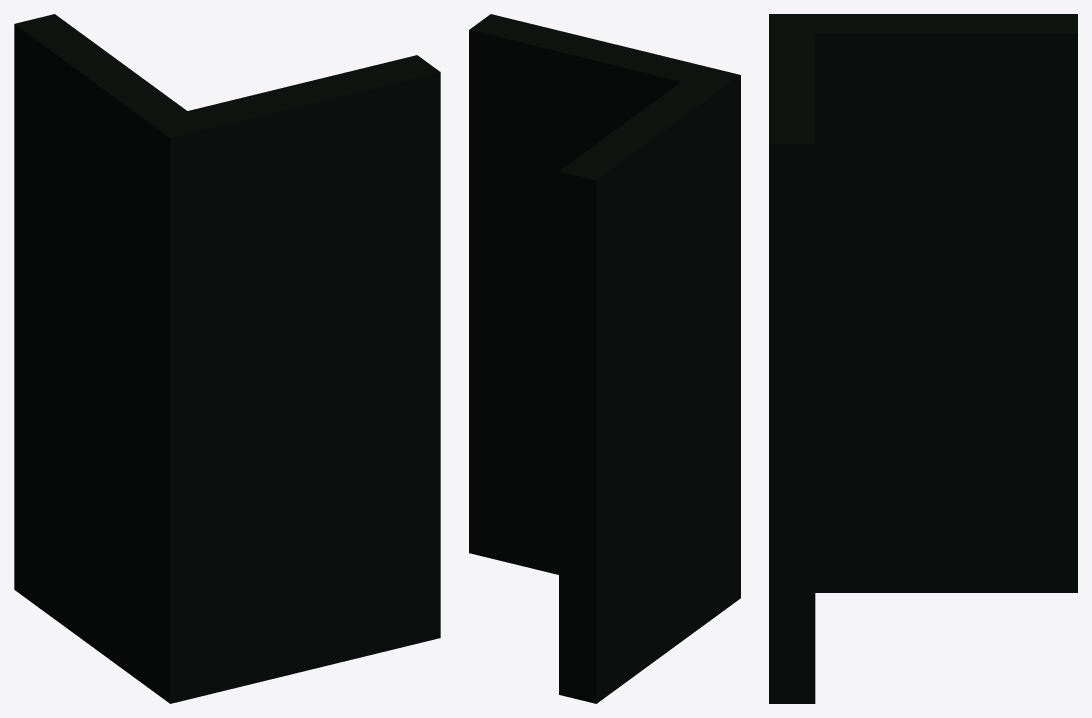
File: BlackCorner.glb
3 renders of one model, left to right at view 1: azimuth 30°, elevation 25°; view 2: azimuth 150°, elevation 25°; view 3: azimuth 270°, elevation 25°, orthographic. The views are drawn at different scales.
Parts seen in each view (by area): view 1: wall_plain_corner_black; view 2: wall_plain_corner_black; view 3: wall_plain_corner_black.
Part boxes in pixels (left/top/right/bottom): wall_plain_corner_black: left=14, top=14, right=440, bottom=703; wall_plain_corner_black: left=469, top=14, right=740, bottom=703; wall_plain_corner_black: left=769, top=14, right=1077, bottom=703.
Size of what is drawn, in the model's own units: 2 by 4 by 2.
Materials: 1 (1 with a texture image).
